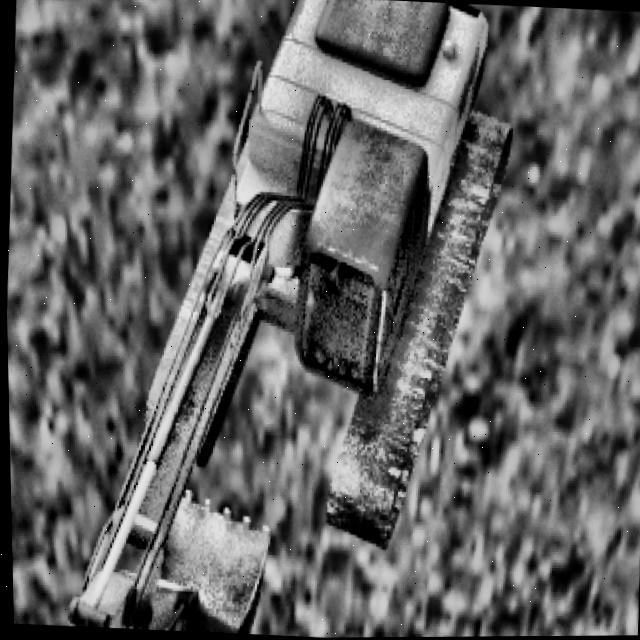excavator: (51, 0, 525, 640)
